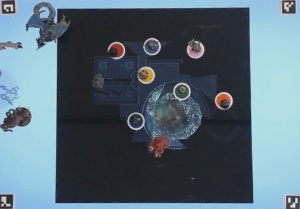blue: (124, 108, 149, 133)
green: (173, 78, 193, 102)
orange: (210, 88, 237, 113)
pink: (184, 37, 210, 60)
red: (108, 38, 127, 60)
violet: (143, 35, 163, 56)
yellow: (136, 62, 157, 84)
